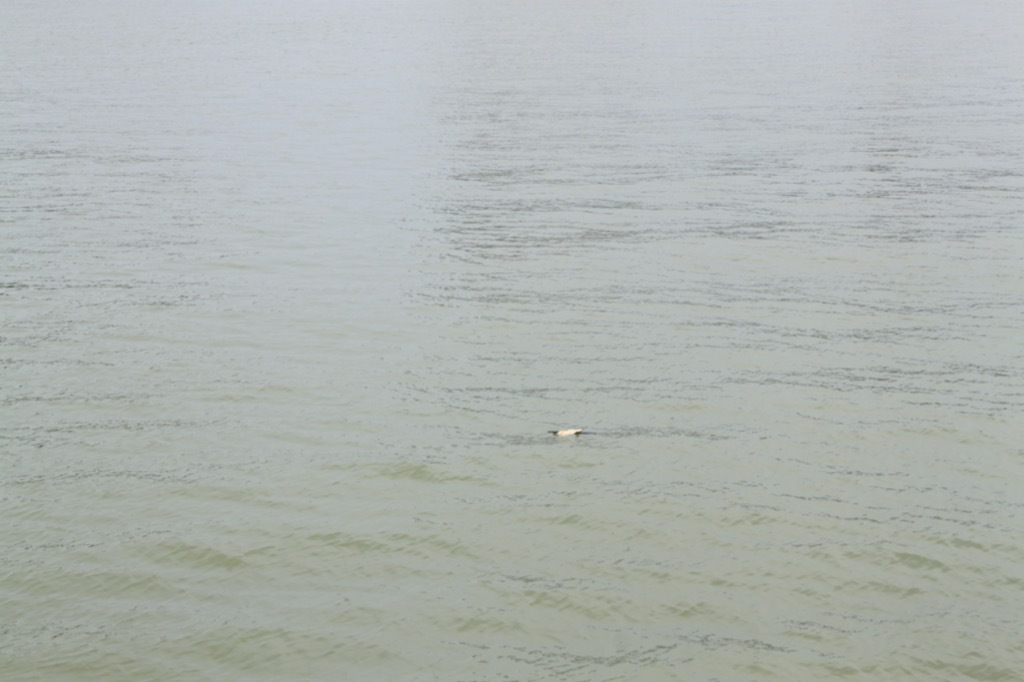plastic: (539, 417, 597, 449)
